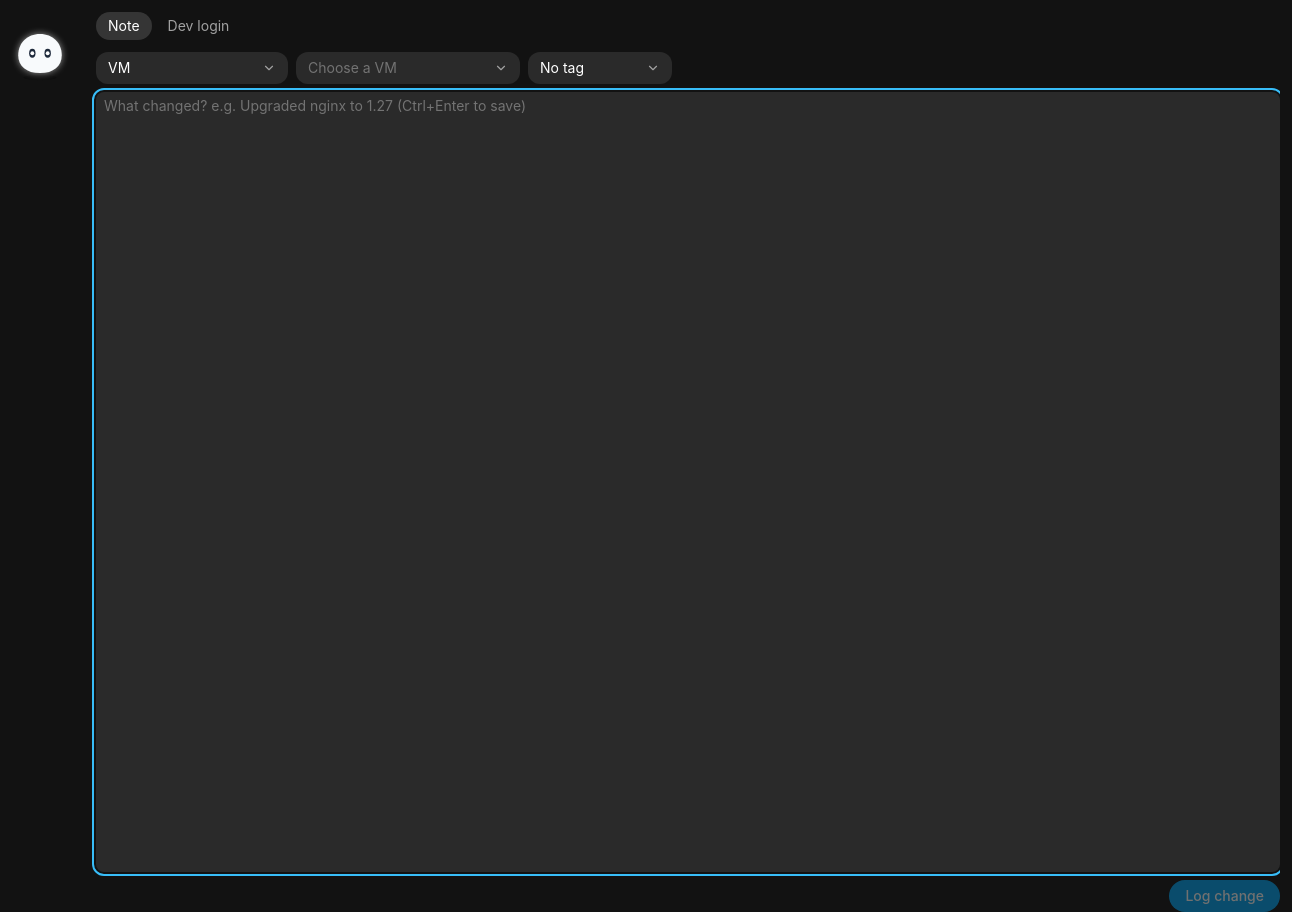
Test: QuickAdd › says when a new file will be created from the template
This screenshot has width=1292, height=912.
Click the button with aria-label "Name" at point(408, 68), box [296,52,520,84]
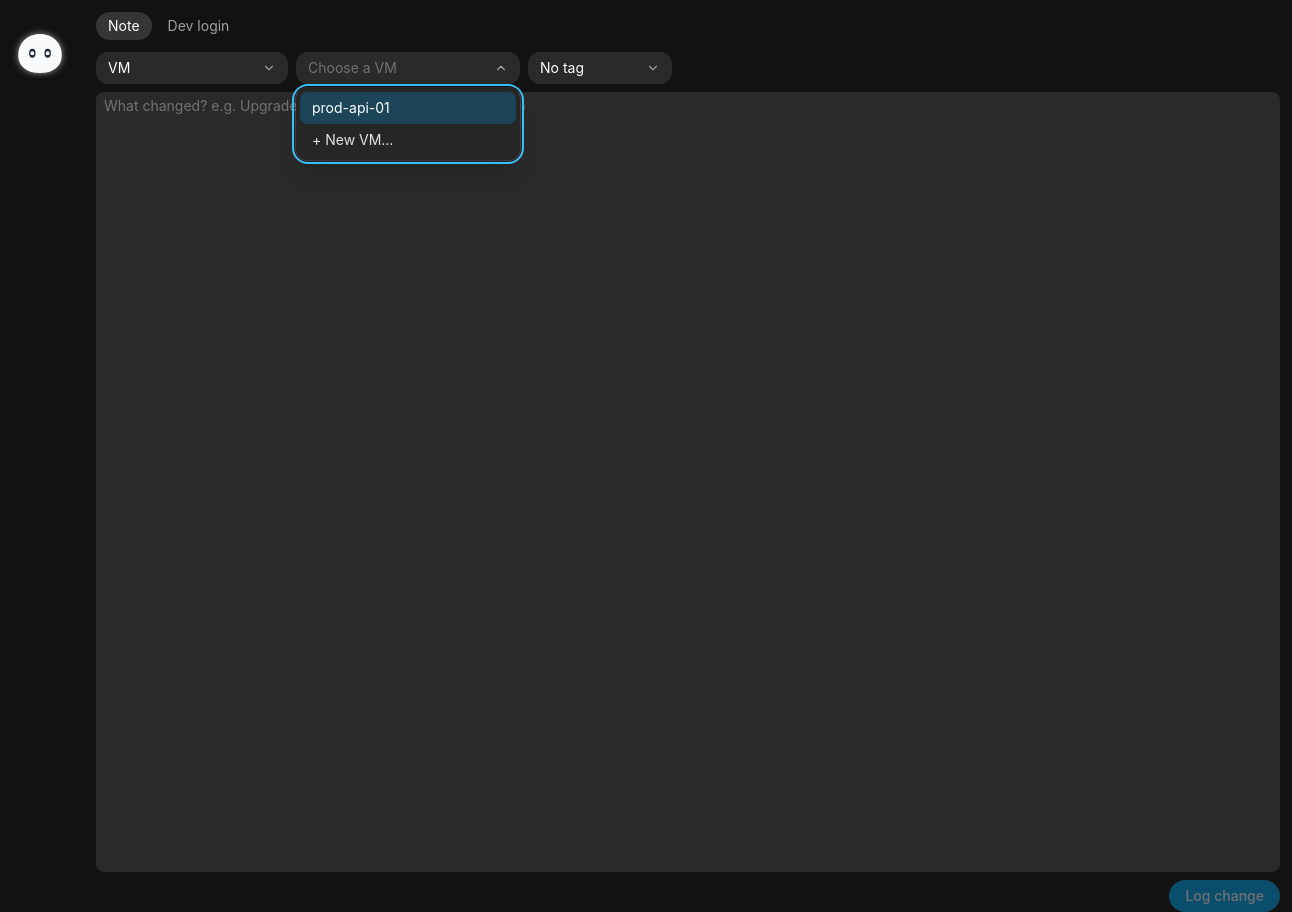
Click the option "+ New VM…" at point(353, 140), box [312,131,394,148]
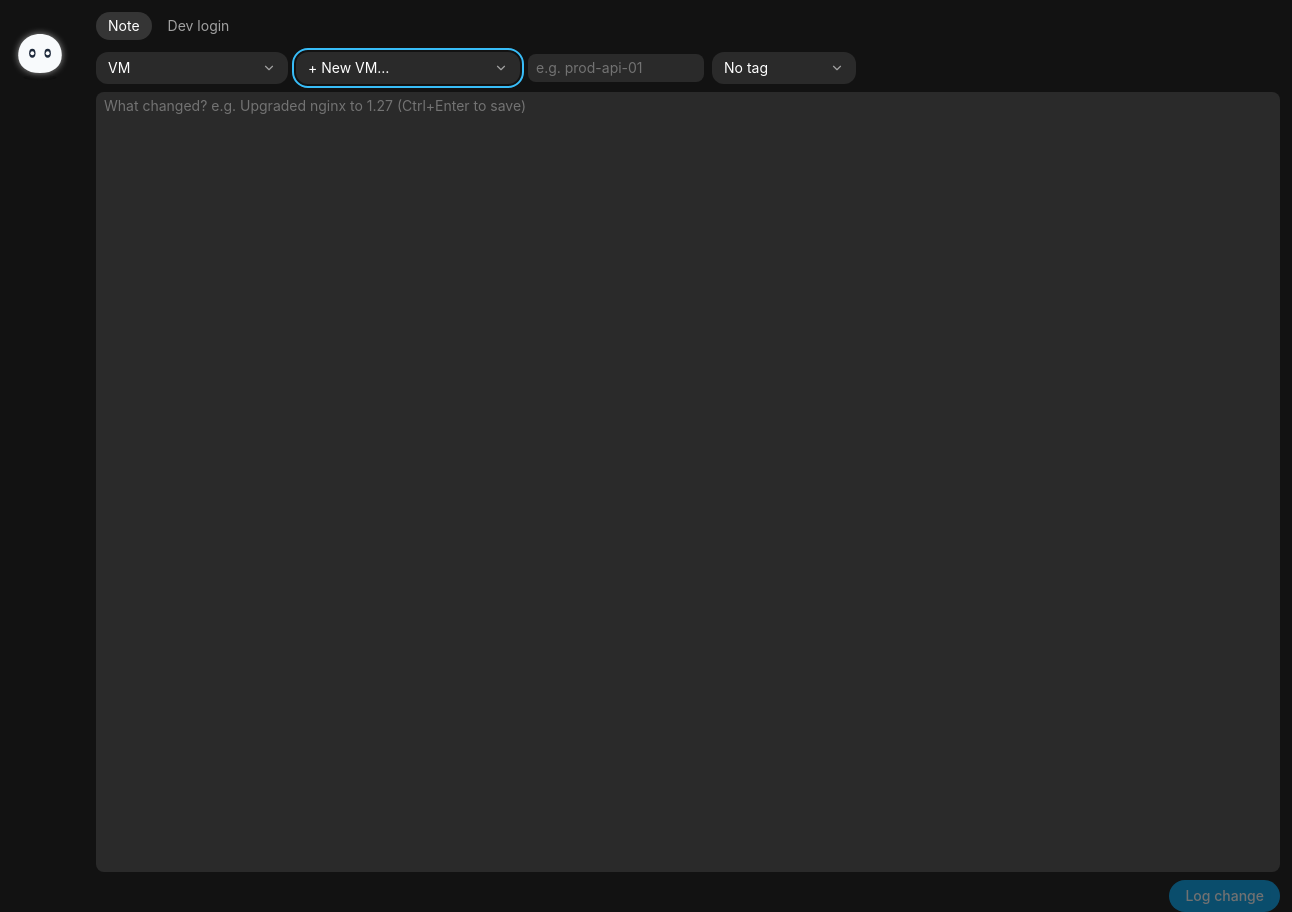
Type "staging-01" into the field named "New name" at point(616, 68), box [528,54,704,82]
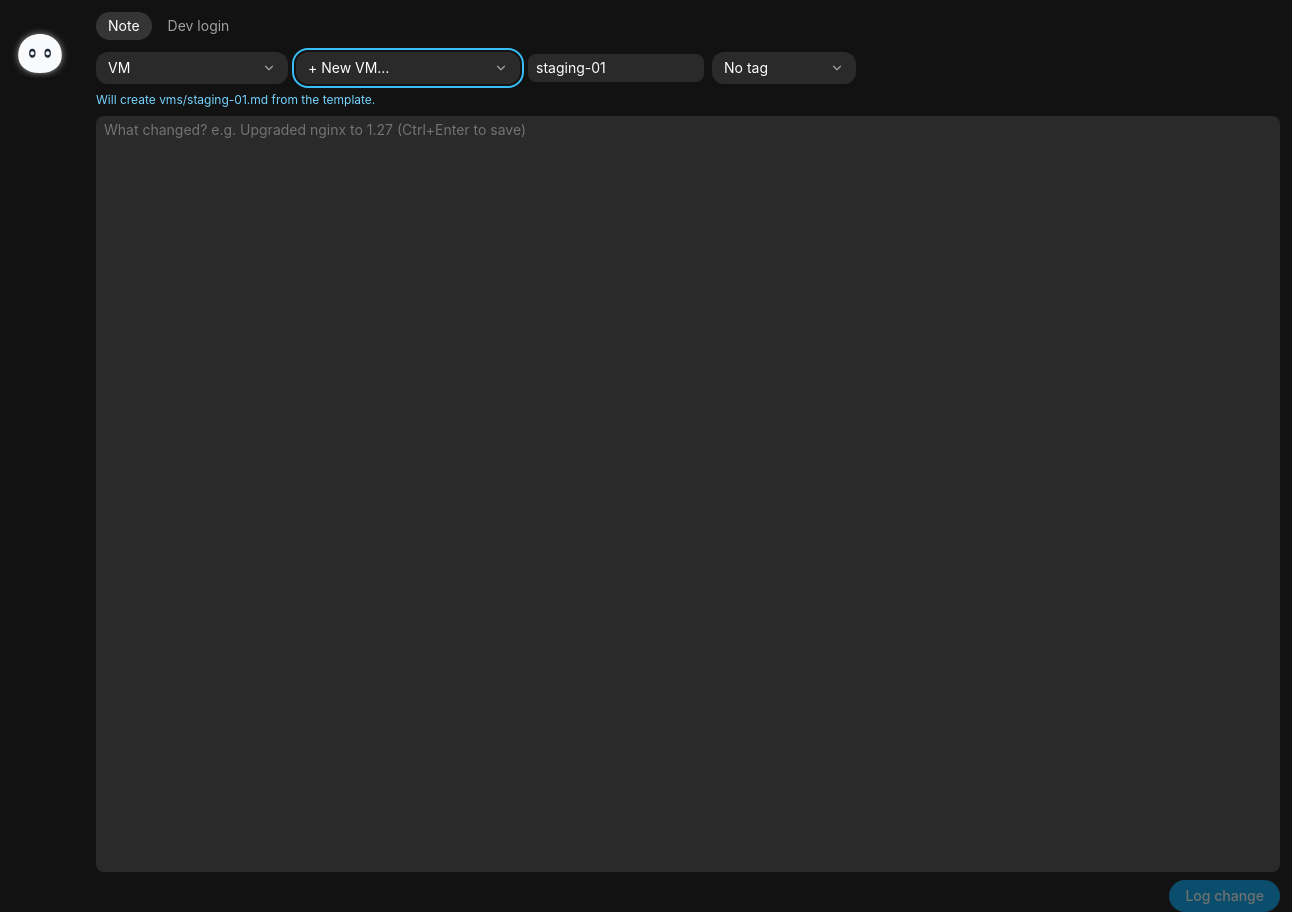
Now the text with test id "creating" reads "Will create vms/staging-01.md from the template.", box [96,92,375,107]
Click the button with aria-label "Name" at point(408, 68), box [296,52,520,84]
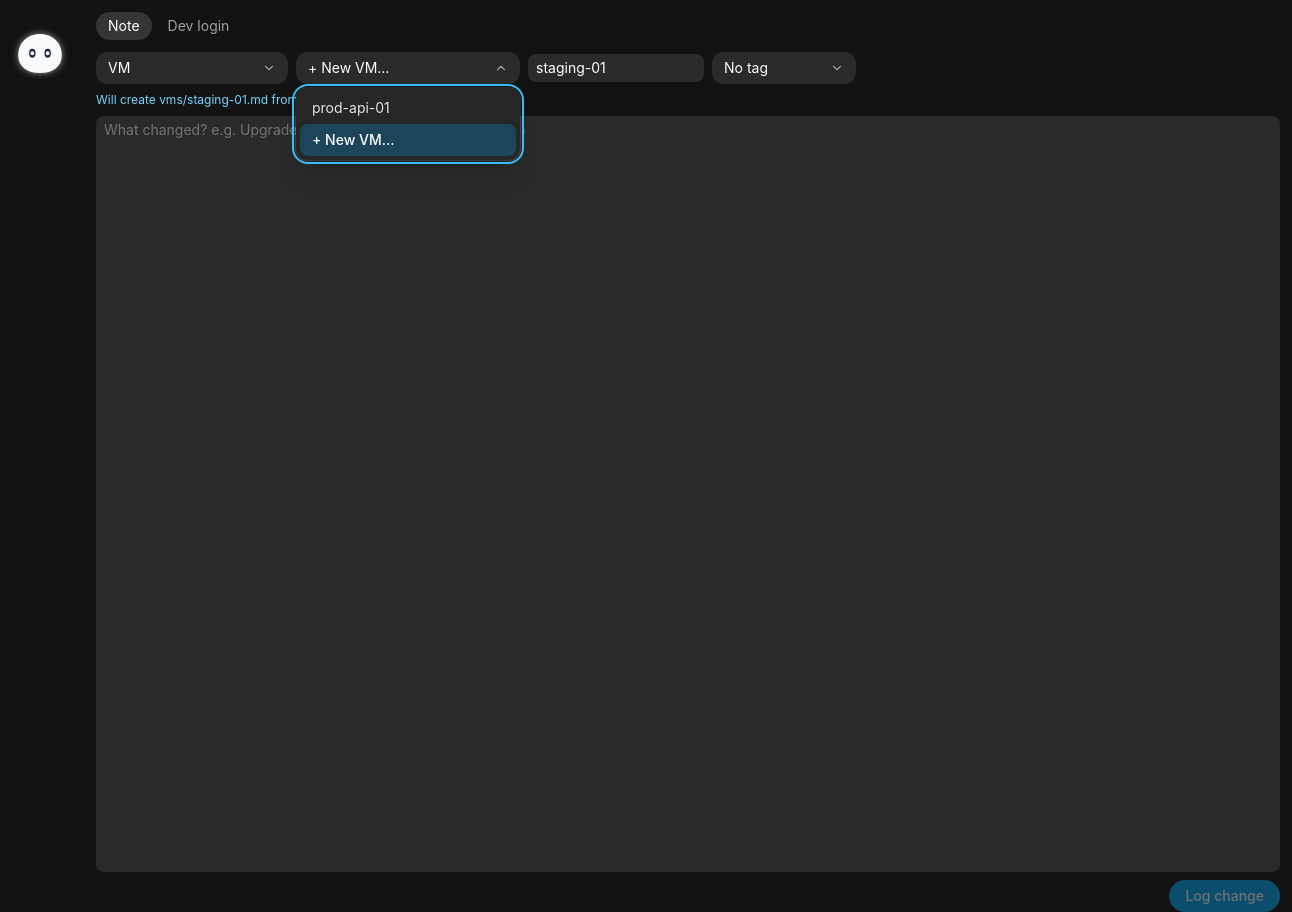
Click the option "prod-api-01" at point(351, 108), box [312,99,390,116]
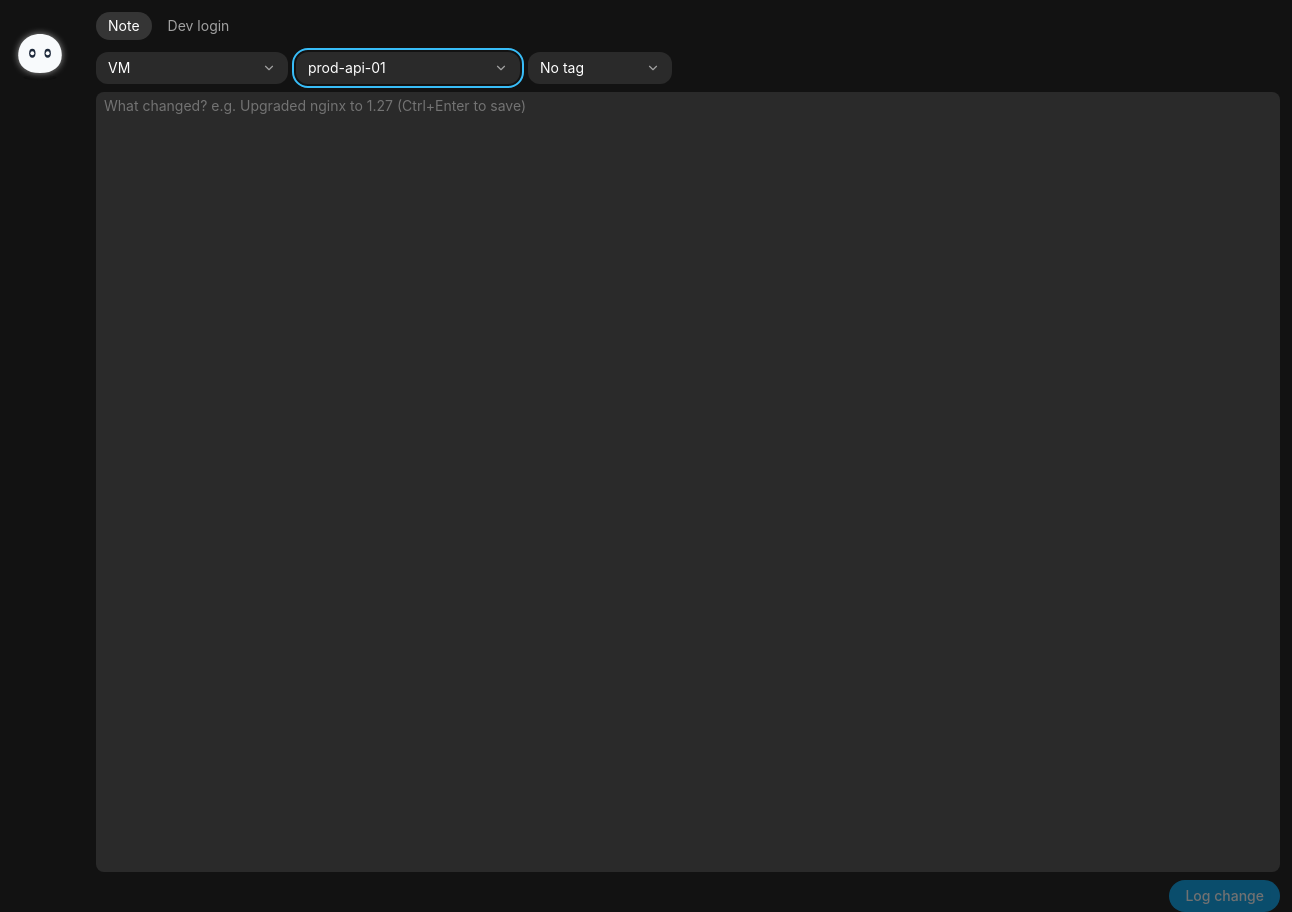
Now the text with test id "creating" is gone
